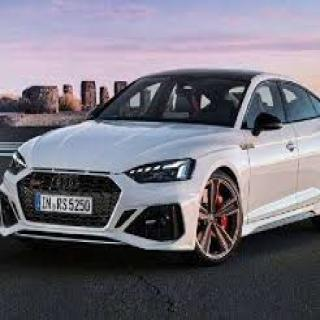Normal_vehicle: (2, 68, 320, 268)
